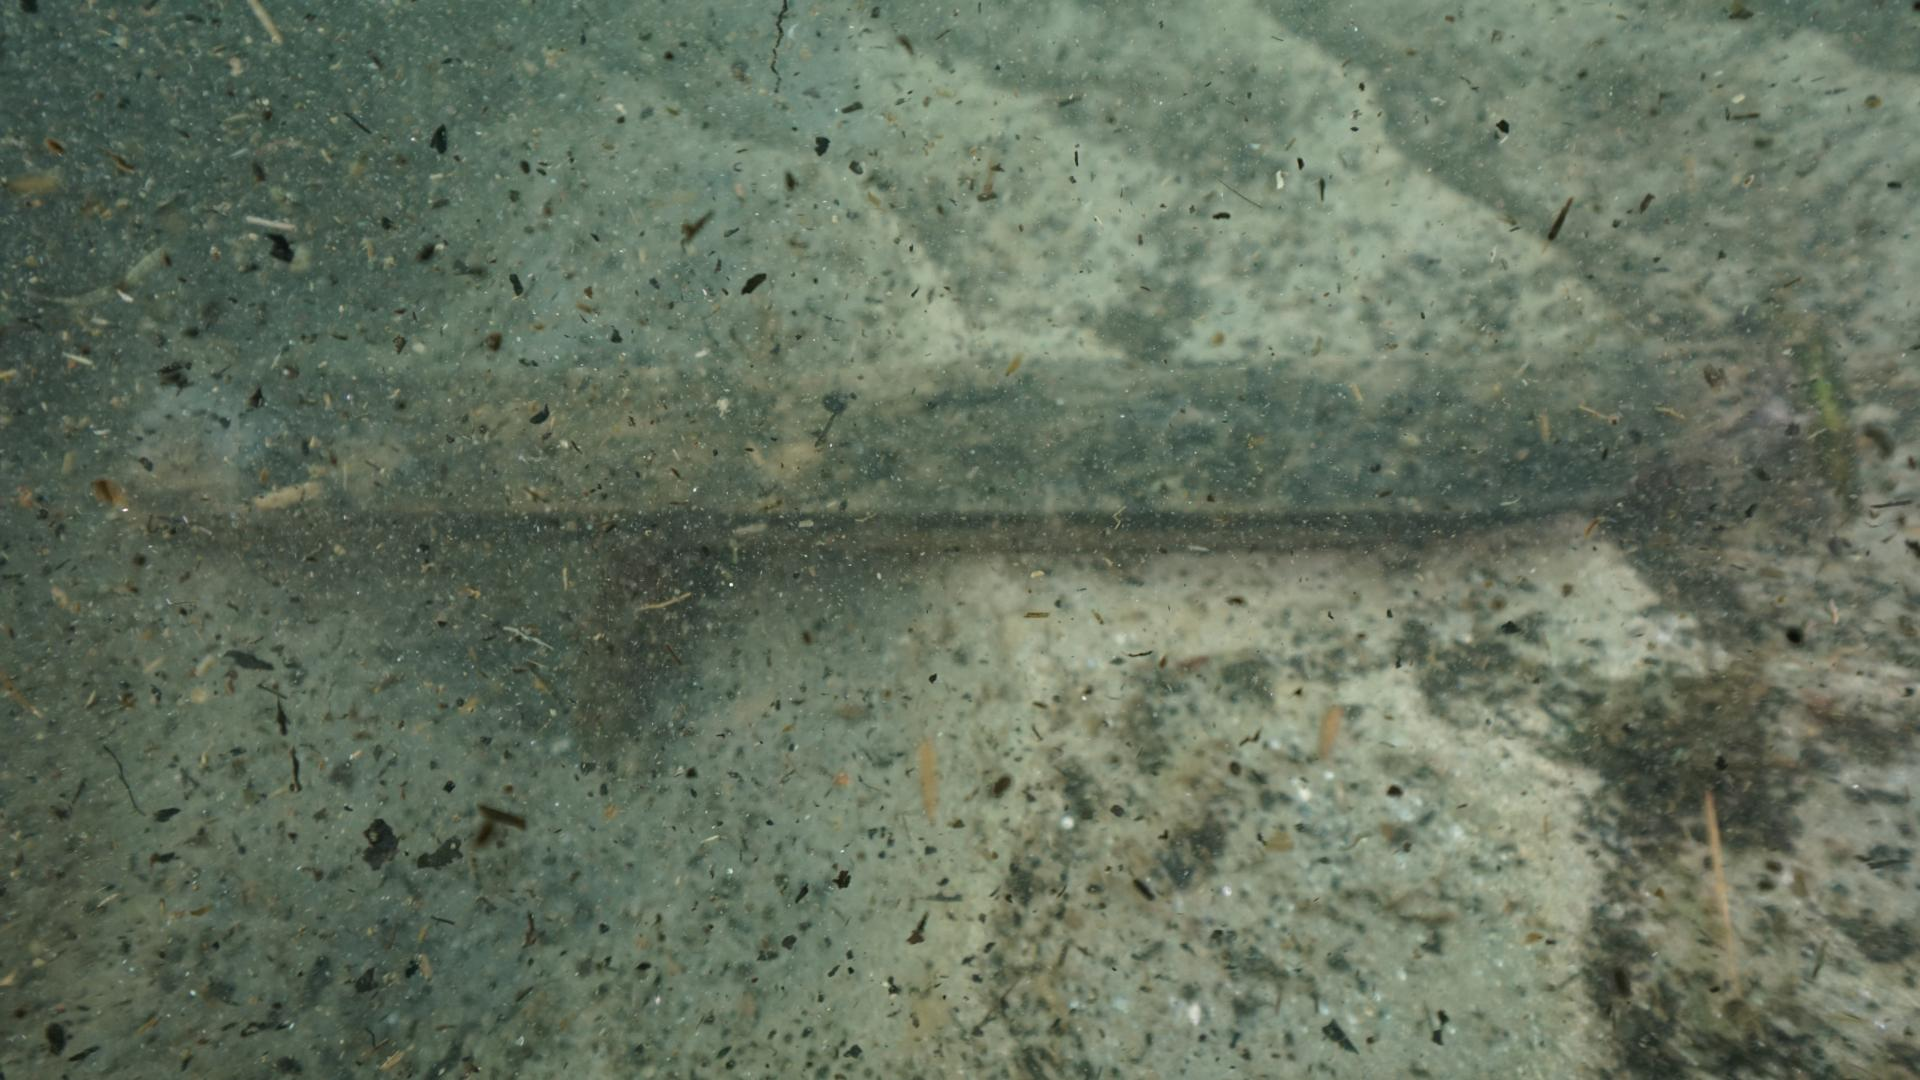wood: (103, 335, 1863, 538)
